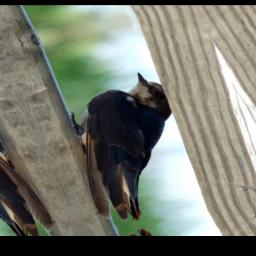Swallow: (42, 68, 218, 227)
